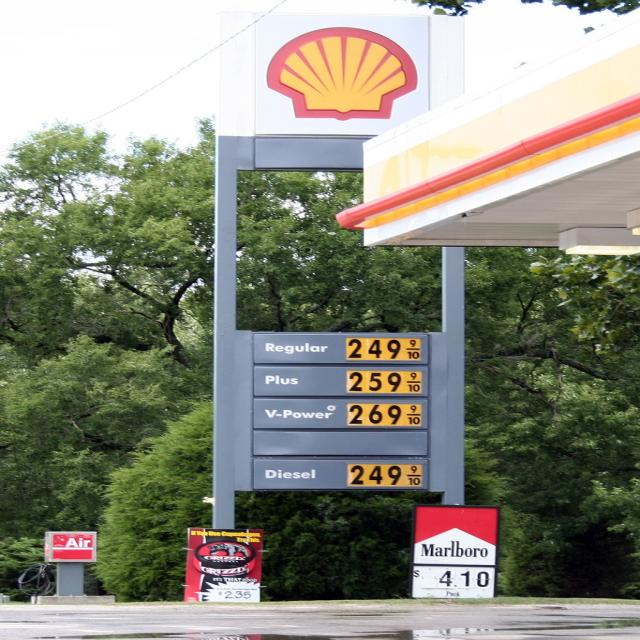shell: (265, 27, 419, 122)
